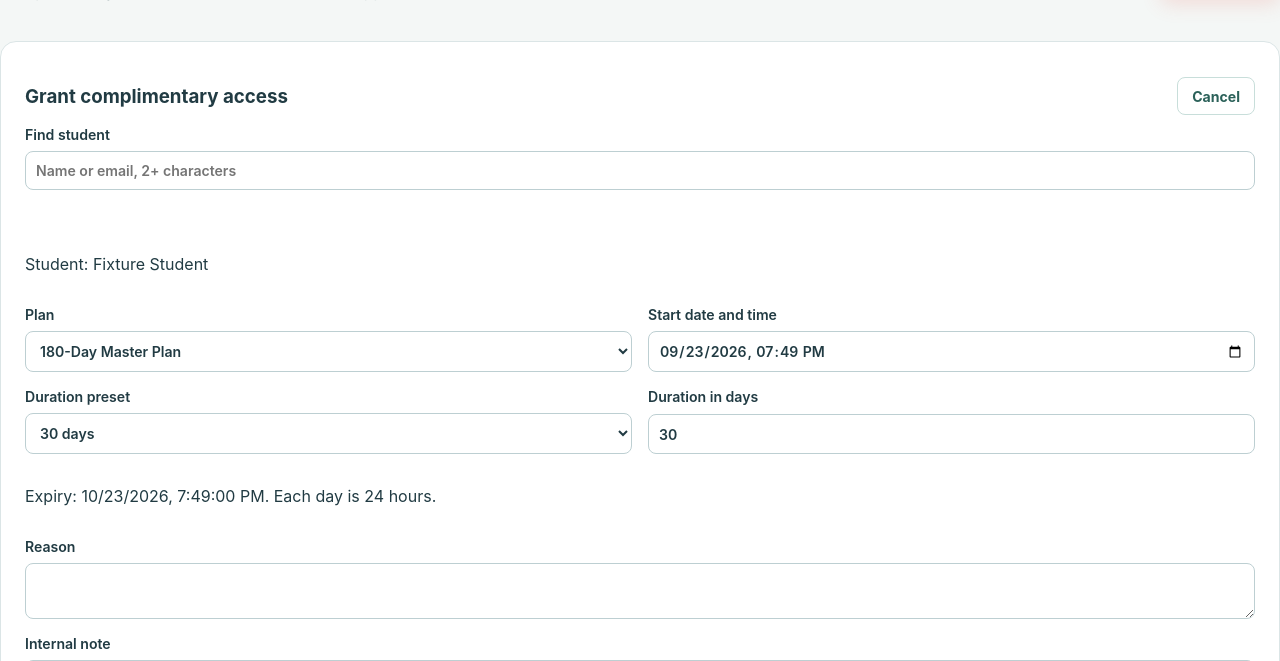
it: requires review then confirmation before granting to a selected profile
In the text box labelled "Reason": (640, 591) [25, 563, 1255, 619], type "Scholarship"
(page scrolled)
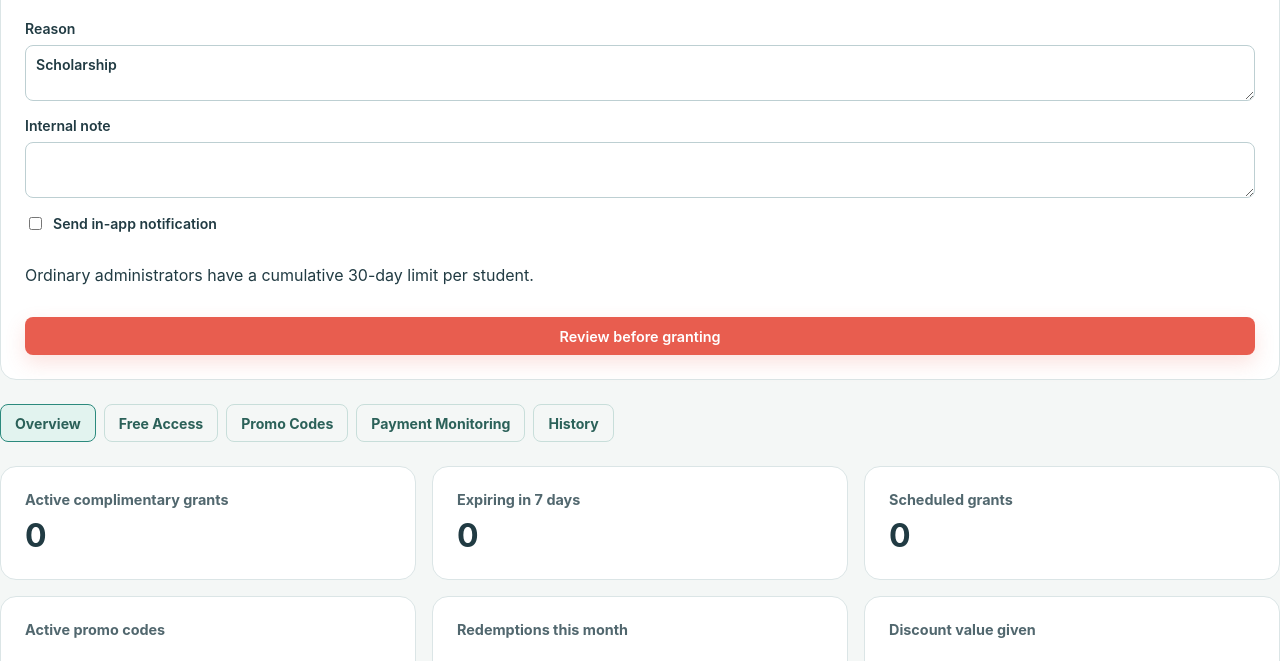
Click the button "Review before granting": (640, 336) [25, 317, 1255, 355]
(page scrolled)
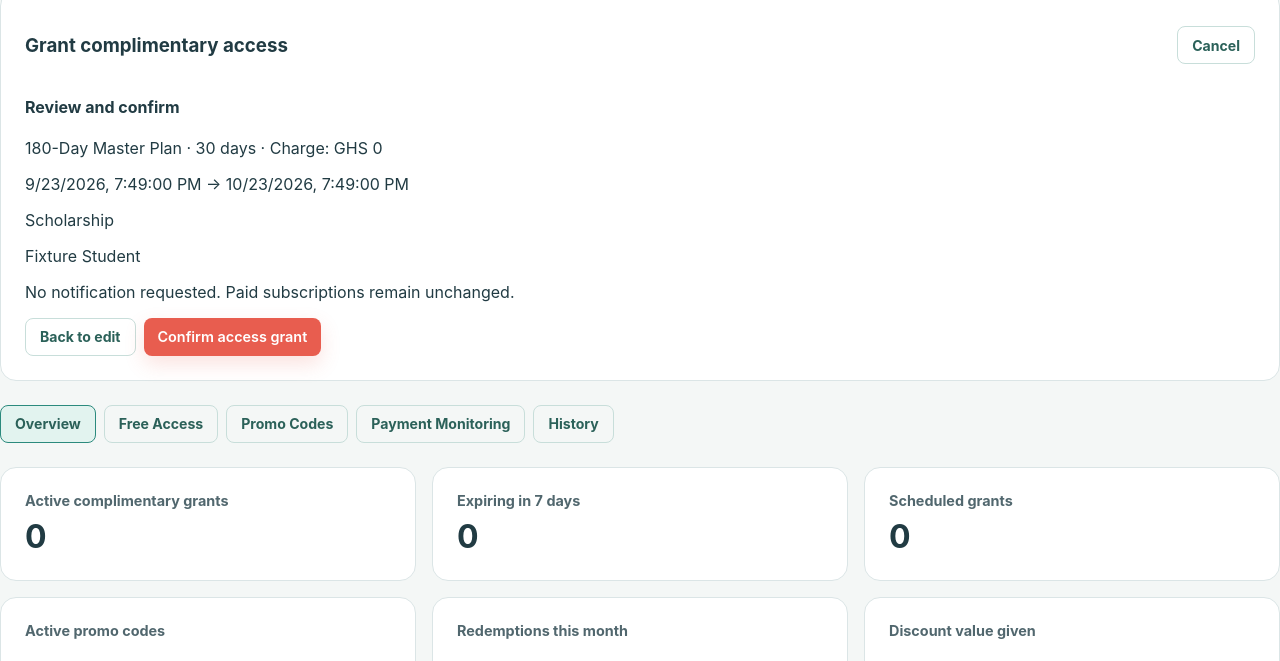
Click the button "Confirm access grant": (232, 337) [144, 318, 321, 356]
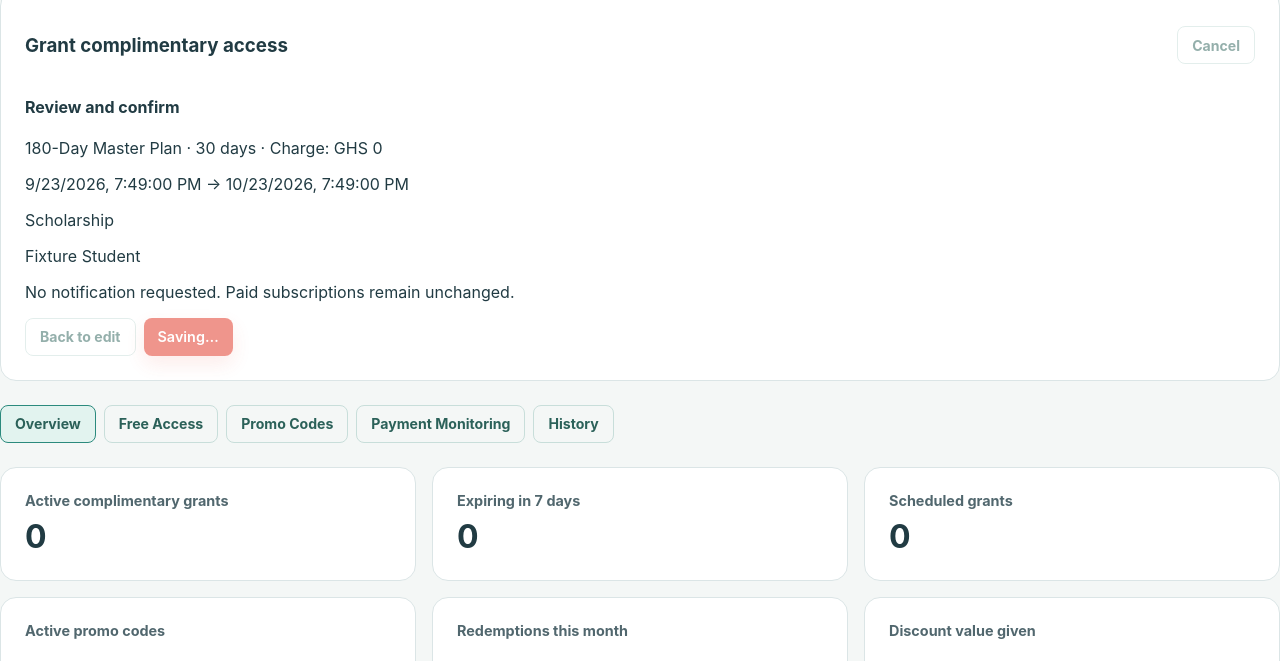
Click the button named "Confirm access grant": (188, 337) [144, 318, 233, 356]
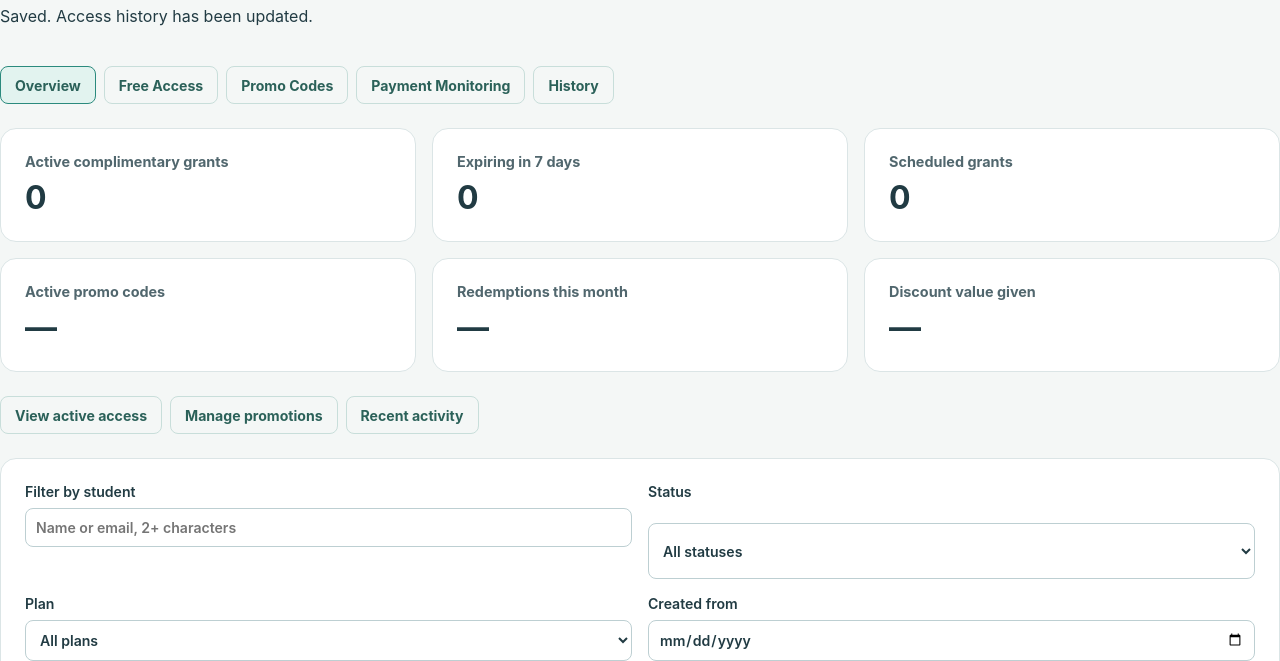
Expected: the text "Saved. Access history has been updated." is shown, [0, 6, 313, 26]
